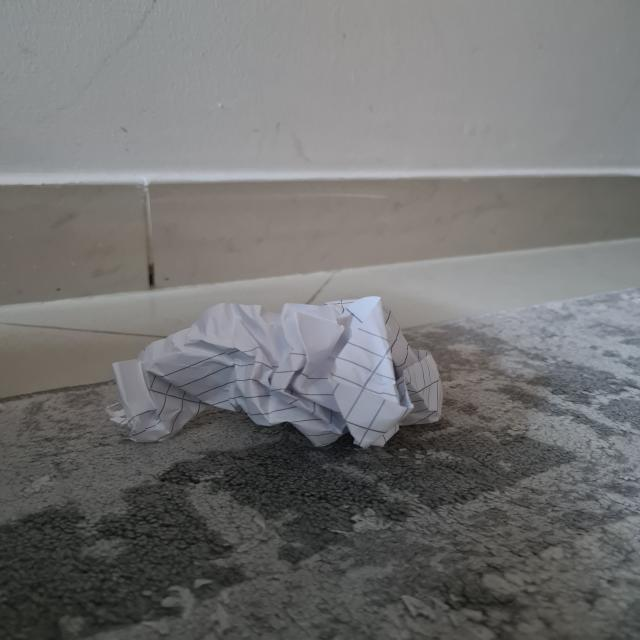Paper: (113, 296, 445, 445)
